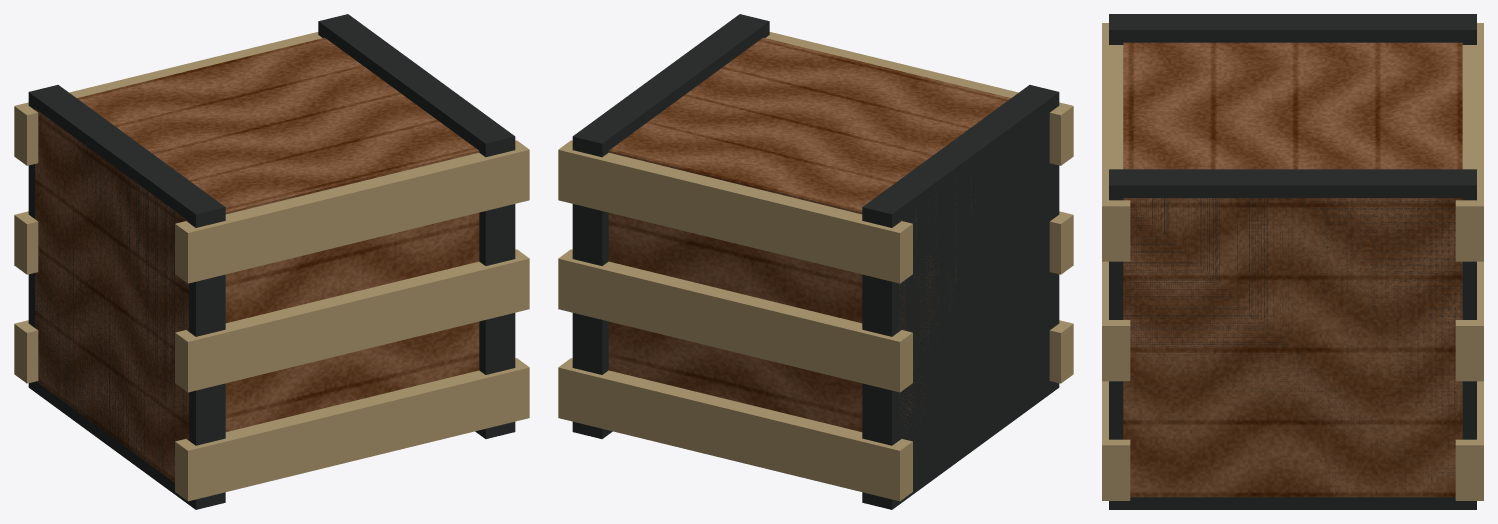
File: trail_crate.obj
The picture shows the model from 3 angles, left to right: view 1: azimuth 30°, elevation 25°; view 2: azimuth 150°, elevation 25°; view 3: azimuth 270°, elevation 25°; orthographic projection. The views are drawn at different scales.
Parts seen in each view (by area): view 1: CrateCore, BackSlat, Band, FrontSlat; view 2: Band, CrateCore, FrontSlat, BackSlat; view 3: CrateCore, Band, FrontSlat, BackSlat.
Part boxes in pixels (bbox=[...]): CrateCore: bbox=[35, 37, 479, 482]; BackSlat: bbox=[175, 140, 529, 501]; Band: bbox=[28, 14, 515, 509]; FrontSlat: bbox=[14, 32, 322, 383]; Band: bbox=[572, 14, 1059, 509]; CrateCore: bbox=[608, 37, 1010, 431]; FrontSlat: bbox=[558, 140, 912, 501]; BackSlat: bbox=[765, 32, 1073, 383]; CrateCore: bbox=[1123, 42, 1462, 497]; Band: bbox=[1109, 14, 1476, 509]; FrontSlat: bbox=[1455, 23, 1483, 500]; BackSlat: bbox=[1102, 23, 1130, 500].
Bounding box in the file's own units: 0.92 × 0.76 × 0.81.
3 materials, 1 textured.
